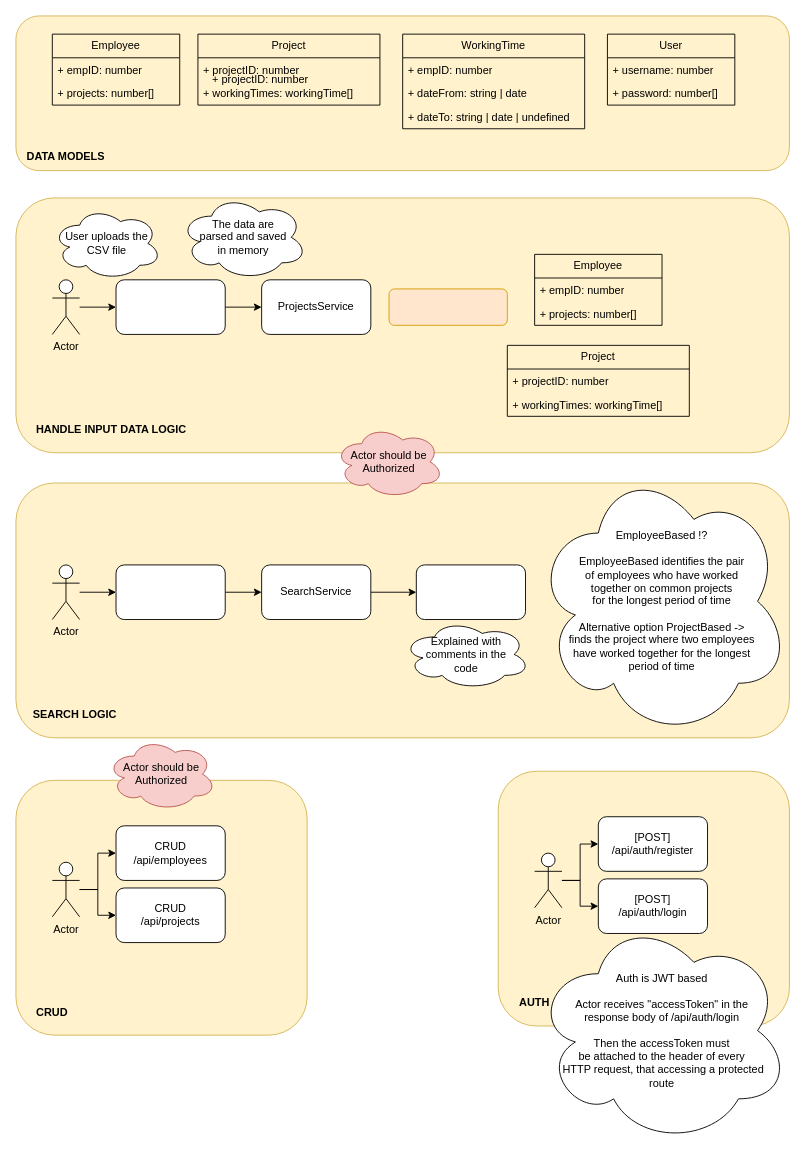
This 805x1160 diagram has some shape labels left out. Here are the shapes that lost their labels. From the top down, the centre of each, then its label:
At (x=170, y=306): "[POST} /api/data-handler".
At (x=447, y=306): "stored as Employees & Projects".
At (x=170, y=592): "[GET] /api/search/brute-force-search".
At (x=470, y=592): "bruteForce EmployeeBased()".
